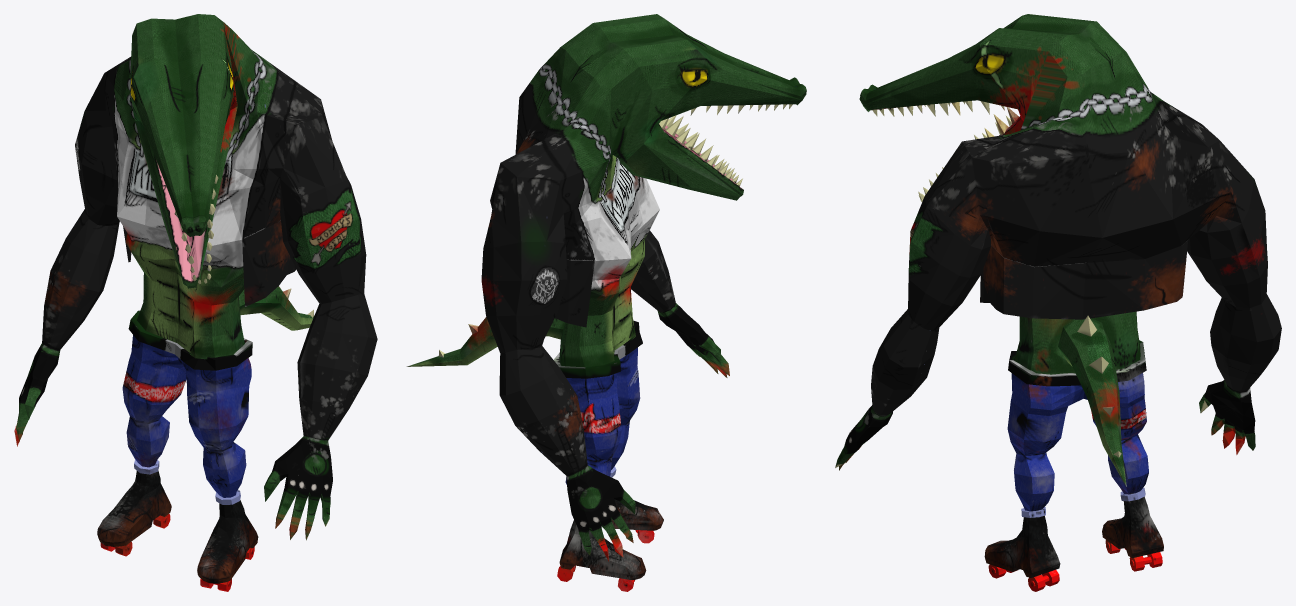
Rendered from cocodrilaBonesSelect_000014.obj.
3 renders of one model, left to right at view 1: azimuth 30°, elevation 25°; view 2: azimuth 150°, elevation 25°; view 3: azimuth 270°, elevation 25°, orthographic. The views are drawn at different scales.
Parts seen in each view (by area): view 1: Crocodile.002_Cylinder.002; view 2: Crocodile.002_Cylinder.002; view 3: Crocodile.002_Cylinder.002.
Part boxes in pixels (x1=…): Crocodile.002_Cylinder.002: x1=14, y1=14, x2=377, y2=591; Crocodile.002_Cylinder.002: x1=406, y1=14, x2=806, y2=591; Crocodile.002_Cylinder.002: x1=835, y1=14, x2=1281, y2=591.
Size of the model in its own units: 3.65 by 6.68 by 4.96.
